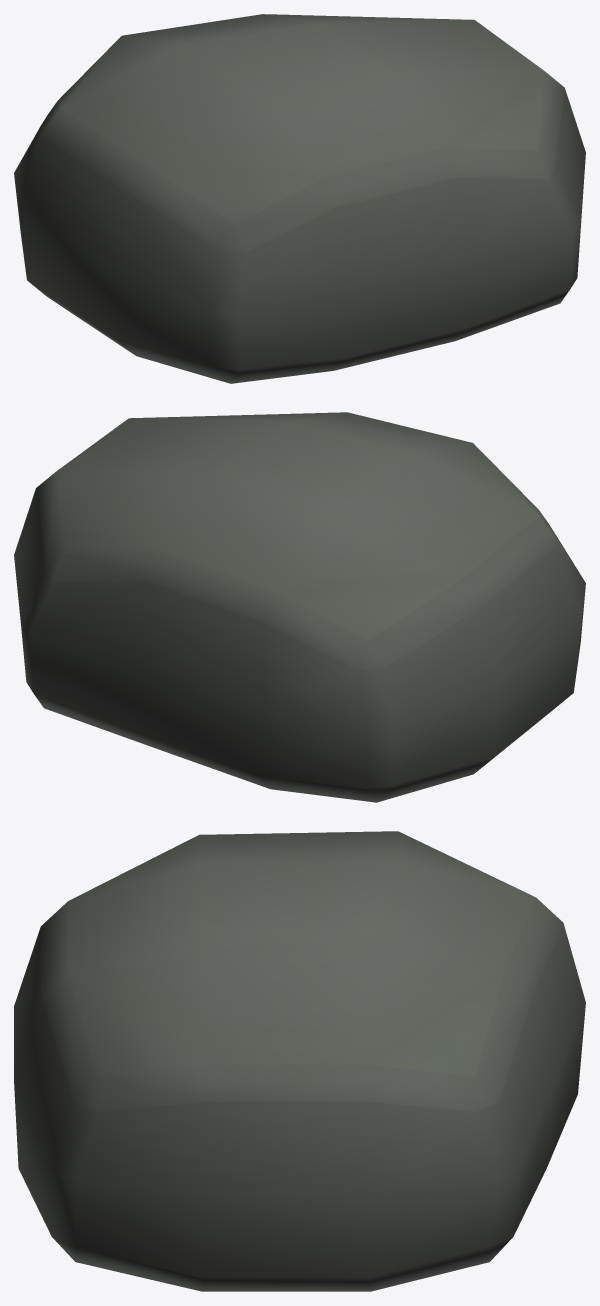
Rendered from stone_02.fbx.
3 views of the same model, one above another, from view 1: azimuth 30°, elevation 25°; view 2: azimuth 150°, elevation 25°; view 3: azimuth 270°, elevation 25° (orthographic). The views are drawn at different scales.
Visible parts, largest first — view 1: stone_02; view 2: stone_02; view 3: stone_02.
Part boxes in pixels (x1,y1,x2,y2): stone_02: [14, 14, 585, 383]; stone_02: [14, 412, 585, 802]; stone_02: [14, 831, 585, 1291].
Size of the model in its own units: 274 by 118 by 237.
Materials: 1 (1 with a texture image).
